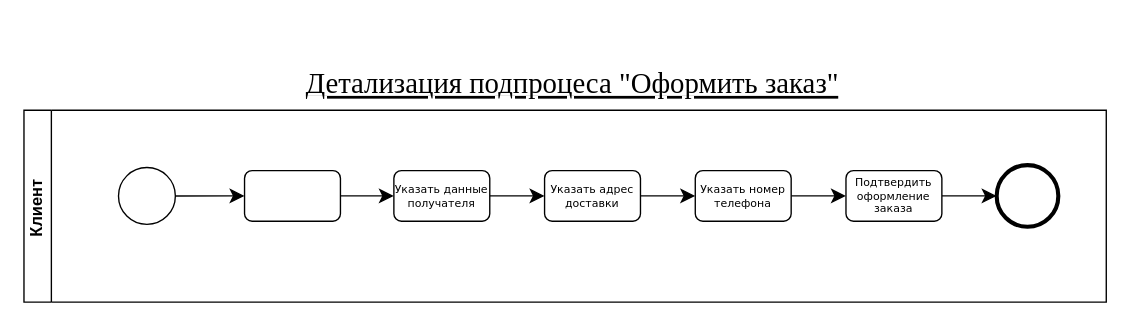
Image size: 1130x326. Some labels were removed from this diagram. Each missing label, with the centre of its shape:
"Выбрать способ оплаты" goes at point 291,195.
"Заказ оформлен" goes at point 1026,195.
"Перейти к оформлению заказа" goes at point 146,195.
